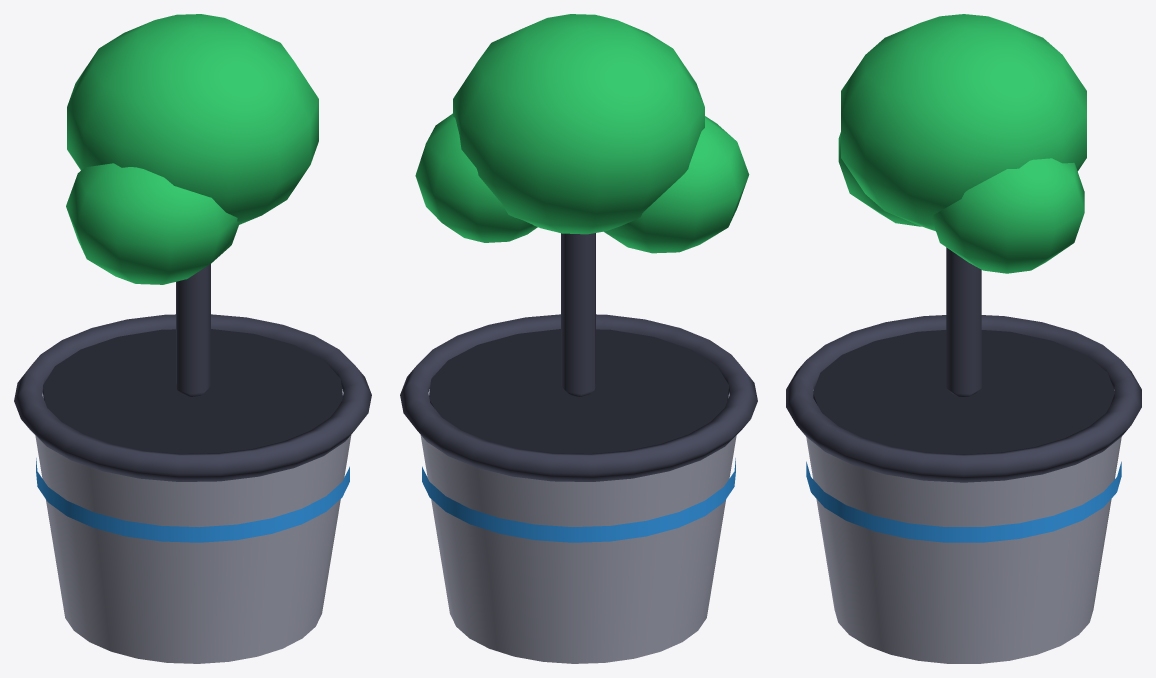
Rendered from round_planter.glb.
The picture shows the model from 3 angles, left to right: view 1: azimuth 30°, elevation 25°; view 2: azimuth 150°, elevation 25°; view 3: azimuth 270°, elevation 25°; orthographic projection.
Parts seen in each view (by area): view 1: planter_body, planter_canopy_a, planter_soil, planter_rim, planter_canopy_b, planter_accent_band, planter_trunk; view 2: planter_body, planter_canopy_a, planter_soil, planter_rim, planter_canopy_b, planter_canopy_c, planter_trunk, planter_accent_band; view 3: planter_body, planter_canopy_a, planter_soil, planter_rim, planter_canopy_c, planter_accent_band, planter_trunk, planter_canopy_b.
Boxes of the visible parts, x1,y1,x2,y2 form: planter_body: [35, 389, 351, 663]; planter_canopy_a: [67, 14, 318, 224]; planter_soil: [43, 329, 342, 453]; planter_rim: [14, 314, 371, 481]; planter_canopy_b: [66, 163, 239, 284]; planter_accent_band: [36, 458, 349, 542]; planter_trunk: [176, 264, 210, 396]; planter_body: [420, 389, 736, 663]; planter_canopy_a: [453, 14, 704, 234]; planter_soil: [429, 329, 728, 453]; planter_rim: [400, 314, 757, 481]; planter_canopy_b: [604, 116, 749, 253]; planter_canopy_c: [415, 113, 537, 242]; planter_trunk: [561, 233, 595, 396]; planter_accent_band: [422, 458, 735, 542]; planter_body: [806, 390, 1121, 663]; planter_canopy_a: [841, 14, 1086, 231]; planter_soil: [813, 330, 1114, 454]; planter_rim: [786, 315, 1141, 482]; planter_canopy_c: [932, 158, 1084, 273]; planter_accent_band: [806, 461, 1121, 542]; planter_trunk: [946, 247, 981, 396]; planter_canopy_b: [838, 132, 921, 226].
Size of the model in its own units: 0.83 by 1.49 by 0.8239.
